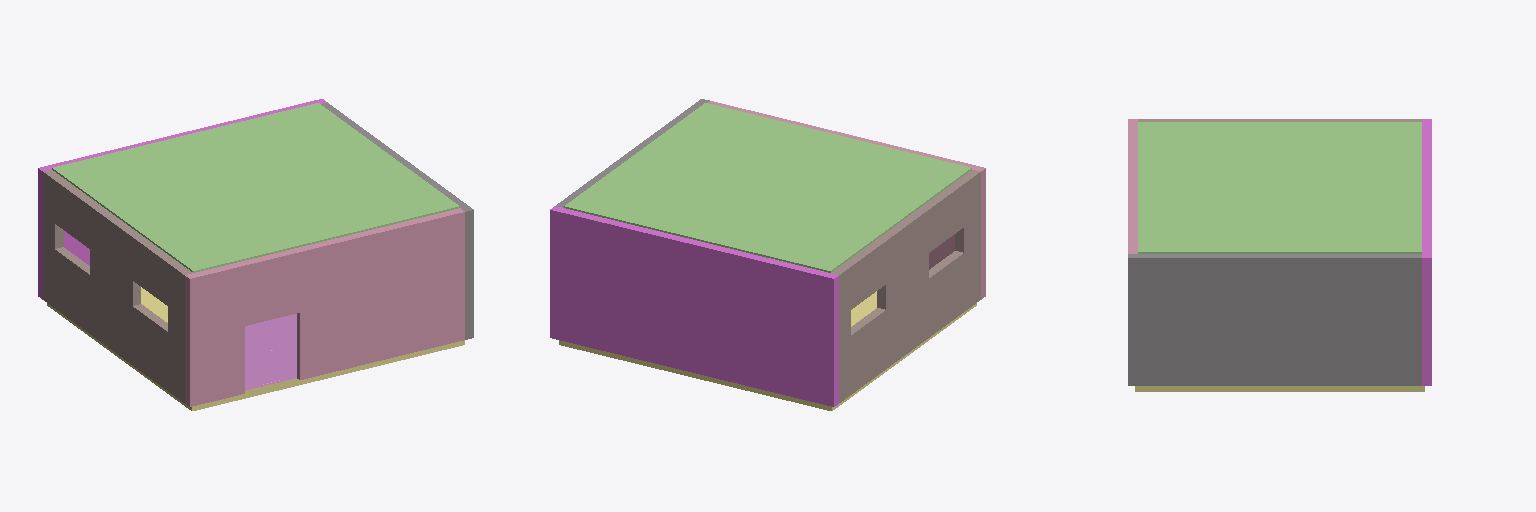
The model's file is RevitRoom1.obj.
3 renders of one model, left to right at view 1: azimuth 30°, elevation 25°; view 2: azimuth 150°, elevation 25°; view 3: azimuth 270°, elevation 25°, orthographic.
Visible parts, largest first — view 1: Compound_Ceiling_Plain__309412_, Basic_Wall_Wall_Ext_102Bwk_75Ins_100LBlk_12P__308015_, Basic_Wall_Wall_Ext_102Bwk_75Ins_100LBlk_12P__308099_, Doors_ExtDbl_Flush_1810x2110mm__308130_, Floor_Floor_Timber_22Cbd_225Joist__308188_, Basic_Wall_Wall_Ext_102Bwk_75Ins_100LBlk_12P__307947_, Basic_Wall_Wall_Ext_102Bwk_75Ins_100LBlk_12P__307826_; view 2: Basic_Wall_Wall_Ext_102Bwk_75Ins_100LBlk_12P__307826_, Compound_Ceiling_Plain__309412_, Basic_Wall_Wall_Ext_102Bwk_75Ins_100LBlk_12P__308099_, Floor_Floor_Timber_22Cbd_225Joist__308188_, Basic_Wall_Wall_Ext_102Bwk_75Ins_100LBlk_12P__308015_, Basic_Wall_Wall_Ext_102Bwk_75Ins_100LBlk_12P__307947_; view 3: Basic_Wall_Wall_Ext_102Bwk_75Ins_100LBlk_12P__307947_, Compound_Ceiling_Plain__309412_, Basic_Wall_Wall_Ext_102Bwk_75Ins_100LBlk_12P__307826_, Floor_Floor_Timber_22Cbd_225Joist__308188_, Basic_Wall_Wall_Ext_102Bwk_75Ins_100LBlk_12P__308015_, Basic_Wall_Wall_Ext_102Bwk_75Ins_100LBlk_12P__308099_.
Boxes of the visible parts, <box> form: Compound_Ceiling_Plain__309412_: <box>52,103,459,272</box>; Basic_Wall_Wall_Ext_102Bwk_75Ins_100LBlk_12P__308015_: <box>185,208,464,406</box>; Basic_Wall_Wall_Ext_102Bwk_75Ins_100LBlk_12P__308099_: <box>43,170,192,402</box>; Doors_ExtDbl_Flush_1810x2110mm__308130_: <box>245,314,296,390</box>; Floor_Floor_Timber_22Cbd_225Joist__308188_: <box>47,287,464,410</box>; Basic_Wall_Wall_Ext_102Bwk_75Ins_100LBlk_12P__307947_: <box>321,102,473,339</box>; Basic_Wall_Wall_Ext_102Bwk_75Ins_100LBlk_12P__307826_: <box>38,99,326,299</box>; Basic_Wall_Wall_Ext_102Bwk_75Ins_100LBlk_12P__307826_: <box>550,206,838,406</box>; Compound_Ceiling_Plain__309412_: <box>564,103,971,272</box>; Basic_Wall_Wall_Ext_102Bwk_75Ins_100LBlk_12P__308099_: <box>831,170,980,402</box>; Floor_Floor_Timber_22Cbd_225Joist__308188_: <box>559,291,976,410</box>; Basic_Wall_Wall_Ext_102Bwk_75Ins_100LBlk_12P__308015_: <box>708,101,985,299</box>; Basic_Wall_Wall_Ext_102Bwk_75Ins_100LBlk_12P__307947_: <box>556,99,709,207</box>; Basic_Wall_Wall_Ext_102Bwk_75Ins_100LBlk_12P__307947_: <box>1128,254,1421,385</box>; Compound_Ceiling_Plain__309412_: <box>1138,122,1421,253</box>; Basic_Wall_Wall_Ext_102Bwk_75Ins_100LBlk_12P__307826_: <box>1422,119,1431,385</box>; Floor_Floor_Timber_22Cbd_225Joist__308188_: <box>1135,386,1424,391</box>; Basic_Wall_Wall_Ext_102Bwk_75Ins_100LBlk_12P__308015_: <box>1128,119,1137,253</box>; Basic_Wall_Wall_Ext_102Bwk_75Ins_100LBlk_12P__308099_: <box>1138,119,1421,121</box>.
Size of the model in its own units: 365 by 169 by 338.